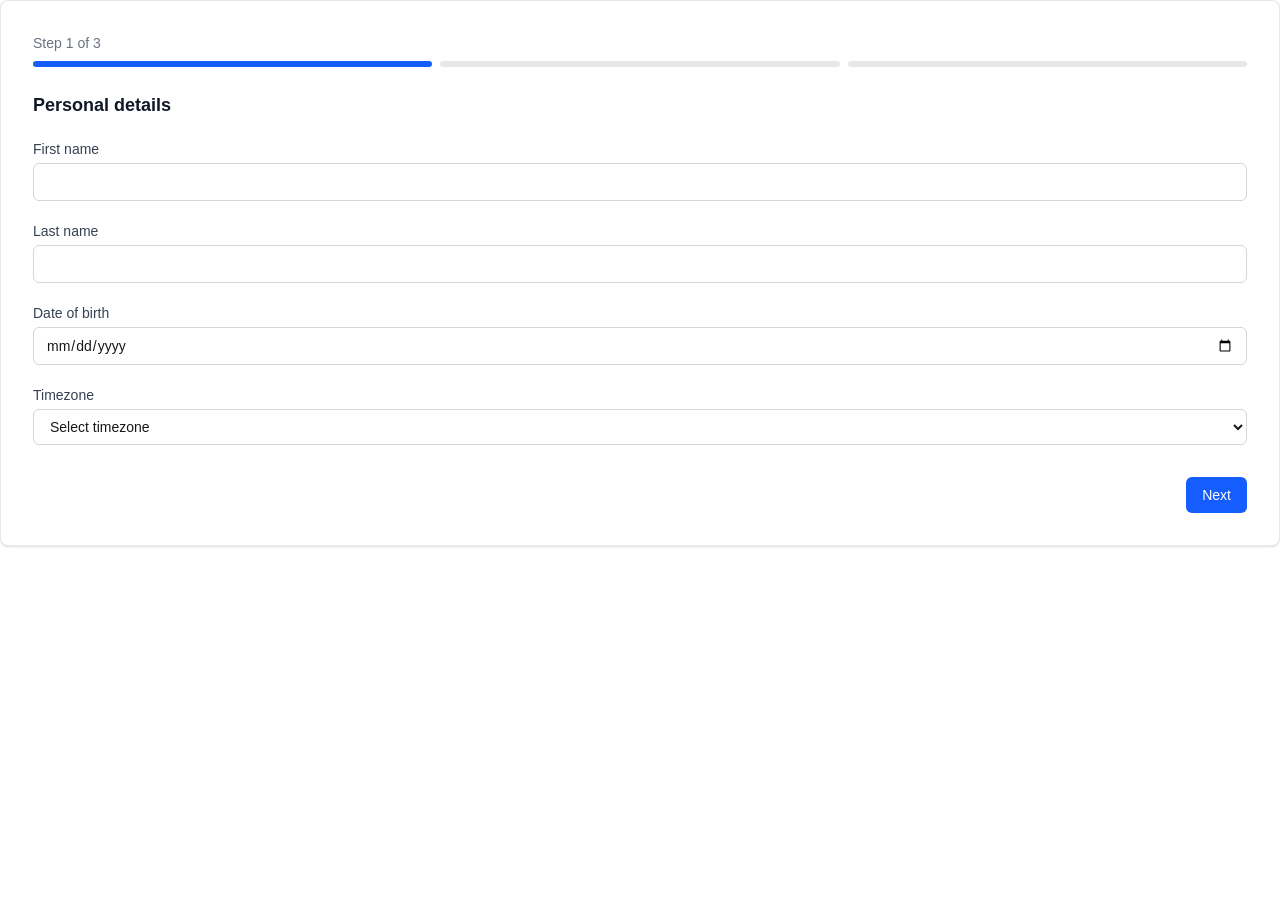
Test: OnboardingWizard › Next does not advance if required fields are empty
Expected: the text "Step 1 of 3" is shown, [33,35,101,51]
Click the button "Next" at (1217, 495), box [1186,477,1247,513]
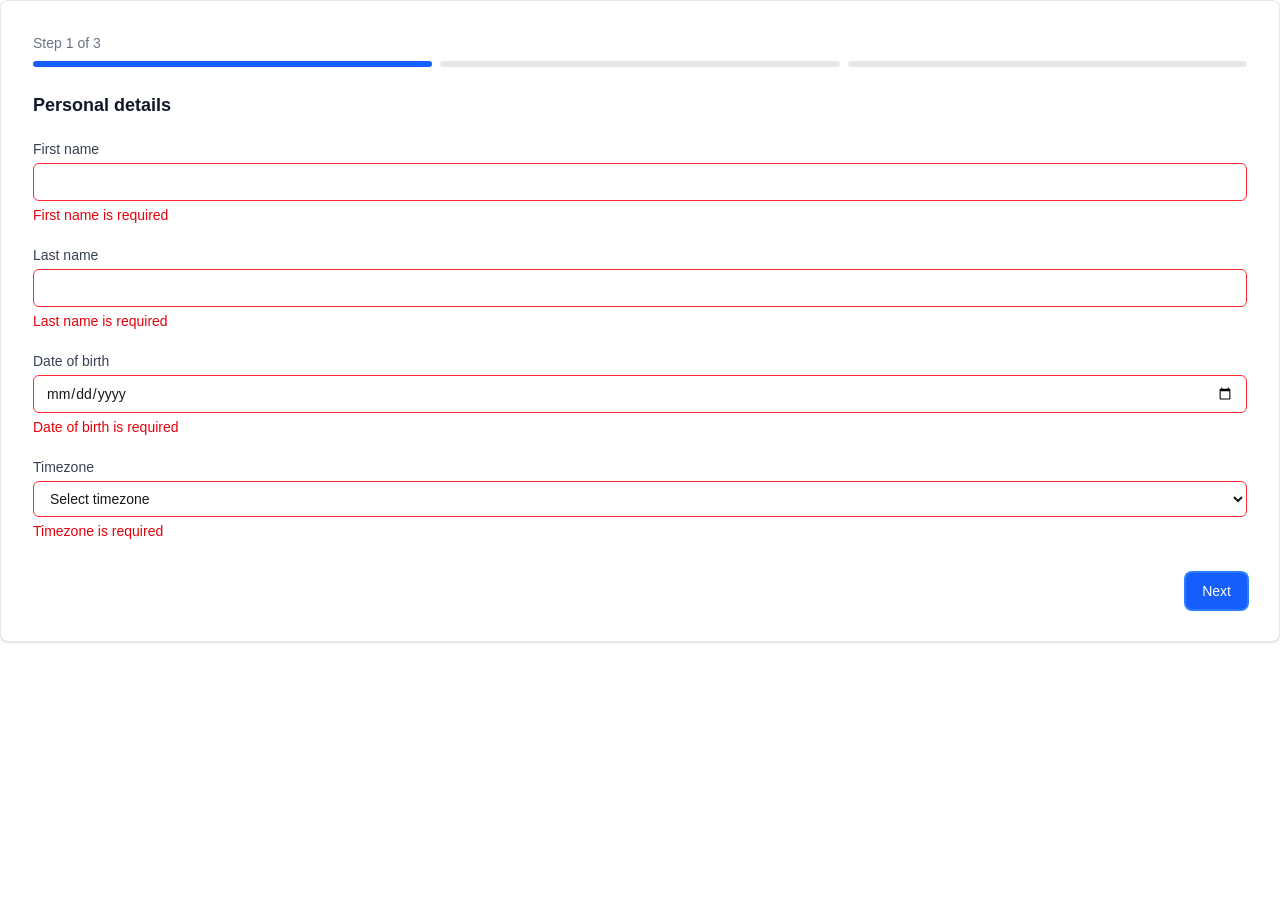
Expected: the text "First name is required" is shown, [33,207,168,223]
Expected: the text "Last name is required" is shown, [33,313,168,329]
Expected: the text "Date of birth is required" is shown, [33,419,178,435]
